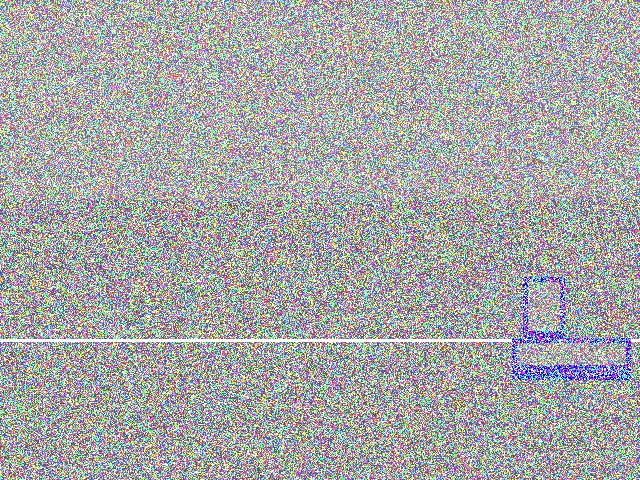bus: (298, 265, 483, 351)
car: (45, 281, 228, 335), (276, 90, 348, 209)
